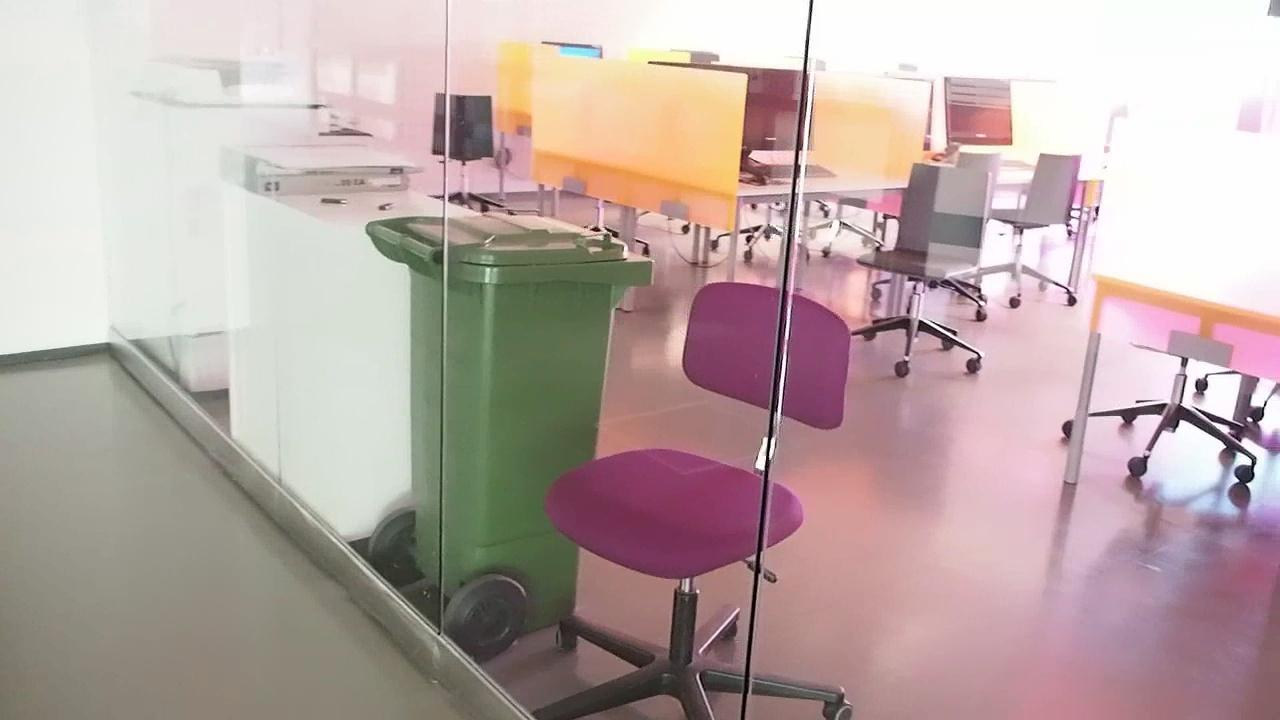chair: (562, 281, 837, 687), (852, 169, 995, 366), (993, 144, 1084, 297)
trashbin: (373, 187, 633, 630)
